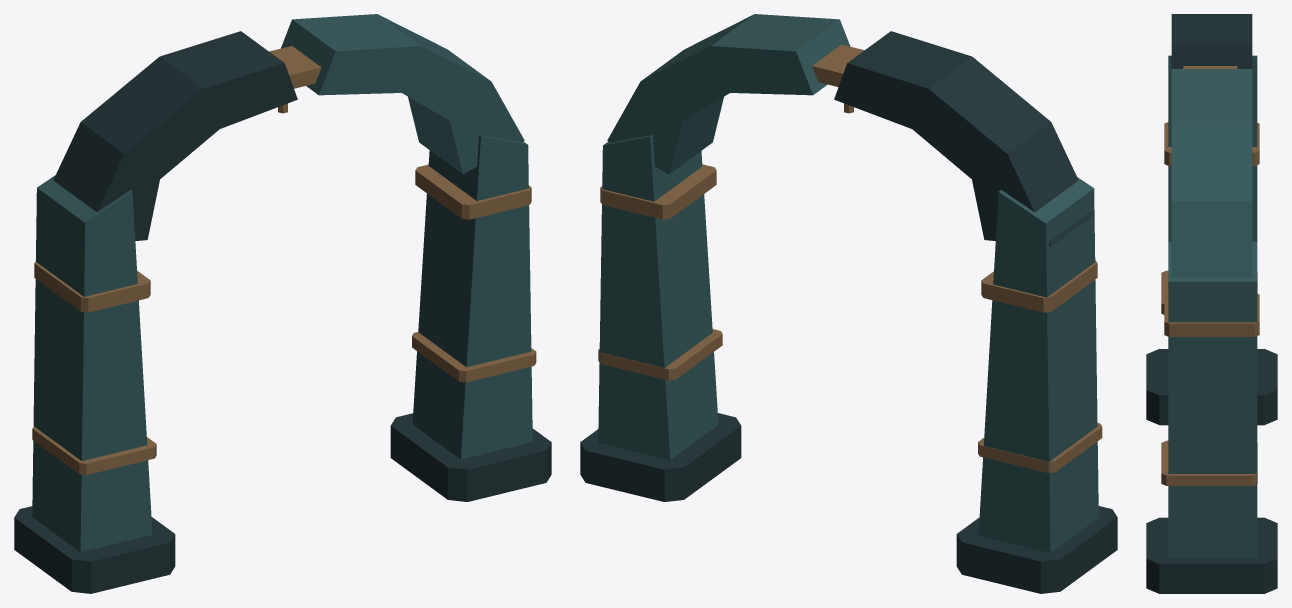
Rendered from bell_arch.glb.
3 views of the same model, side by side, from view 1: azimuth 30°, elevation 25°; view 2: azimuth 150°, elevation 25°; view 3: azimuth 270°, elevation 25° (orthographic). The views are drawn at different scales.
Parts seen in each view (by area): view 1: body; view 2: body; view 3: body.
Part boxes in pixels (left/top/right/bottom): body: left=14, top=14, right=551, bottom=593; body: left=580, top=14, right=1117, bottom=593; body: left=1146, top=14, right=1277, bottom=593.
Size of the model in its own units: 6.2 by 5.8 by 1.6.
